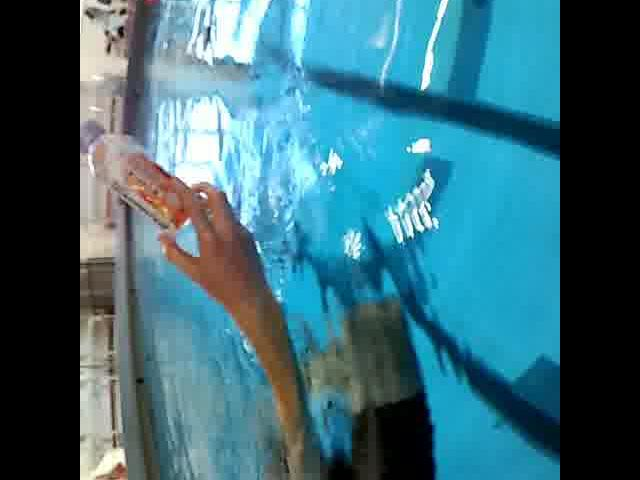Bottle: (80, 115, 204, 233)
